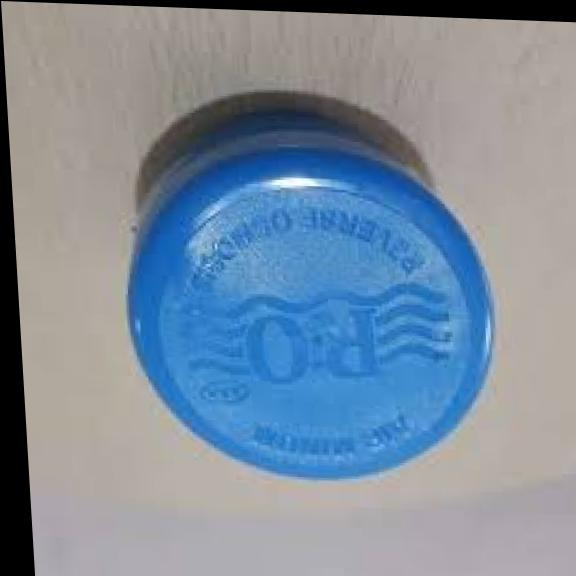Plastik: (125, 113, 494, 480)
